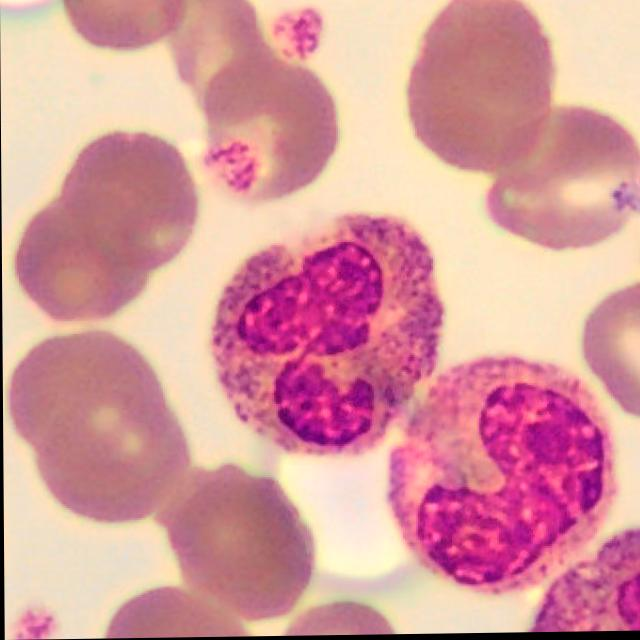Bastonete: (387, 359, 618, 595)
Neutrofilo segmentado: (209, 215, 444, 457)
